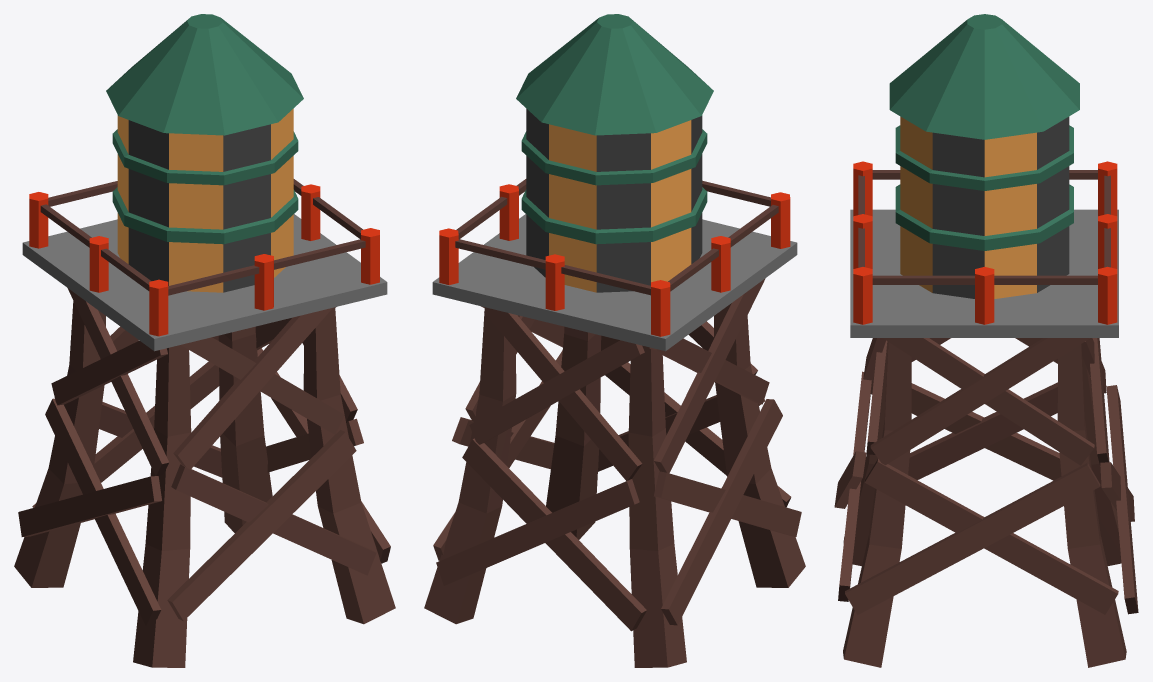
The model's file is House_16.FBX.
3 views of the same model, side by side, from view 1: azimuth 30°, elevation 25°; view 2: azimuth 150°, elevation 25°; view 3: azimuth 270°, elevation 25° (orthographic).
Parts seen in each view (by area): view 1: House_16; view 2: House_16; view 3: House_16.
Boxes of the visible parts, x1,y1,x2,y2 form: House_16: (14,14,395,667); House_16: (424,14,805,667); House_16: (834,14,1138,667).
Size of the model in its own units: 3.14 by 7.1 by 3.3.
1 material, 1 textured.
